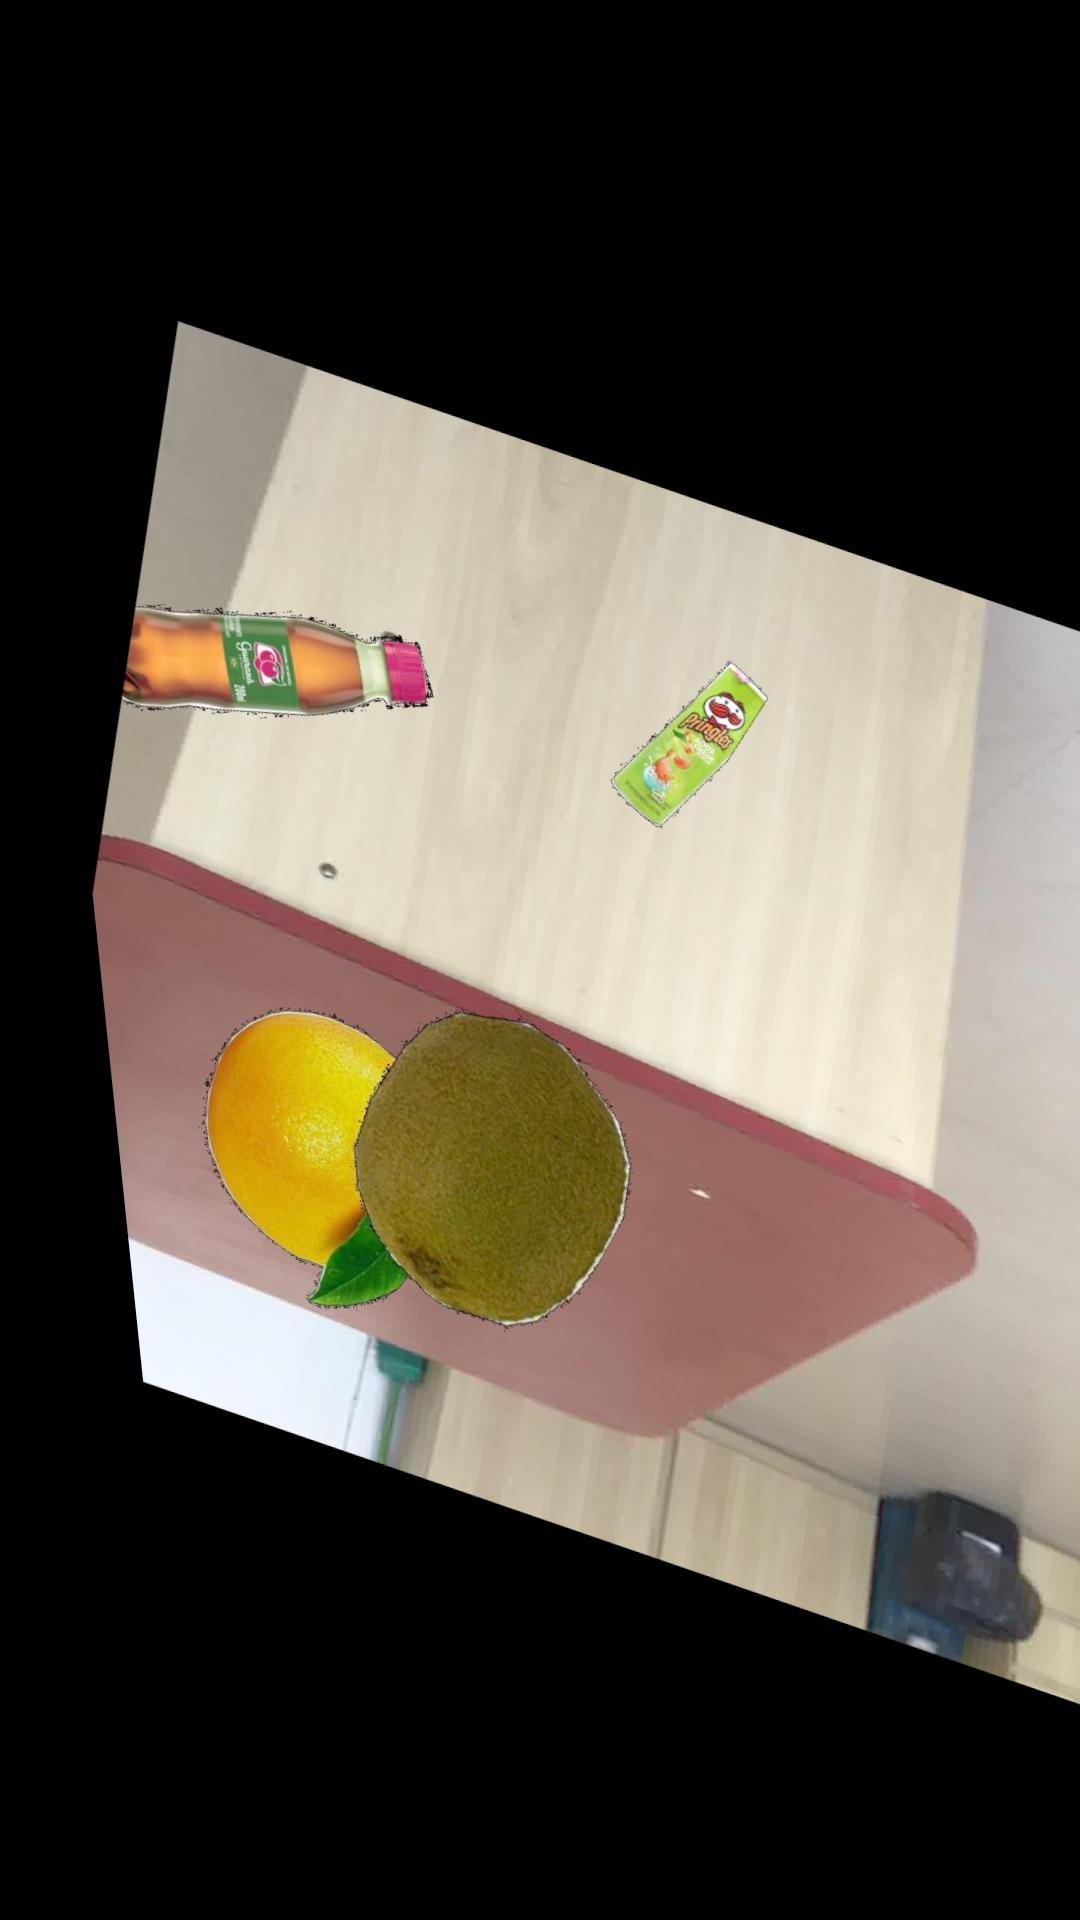guarana: (107, 601, 421, 709)
kiwi: (331, 1002, 609, 1317)
orange: (181, 1004, 382, 1303)
pringles: (597, 645, 756, 812)
